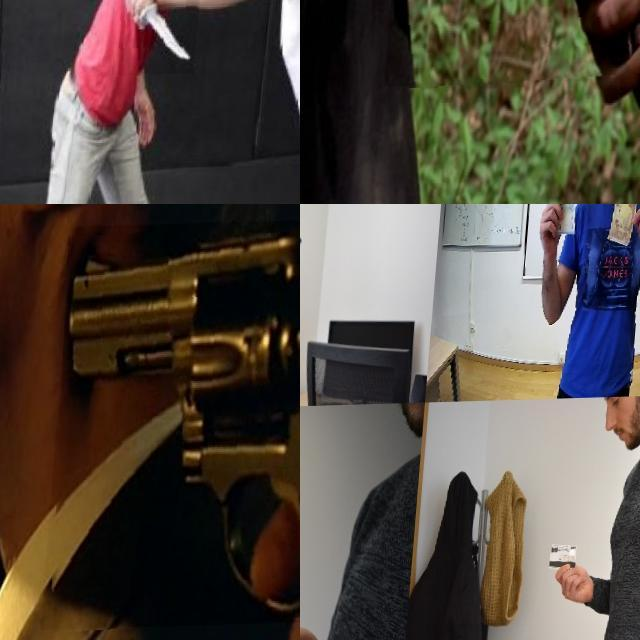-: (116, 0, 205, 77)
gun-knife-thesis - v11 Yolov5 augmented: (50, 220, 300, 631), (393, 0, 640, 167)
